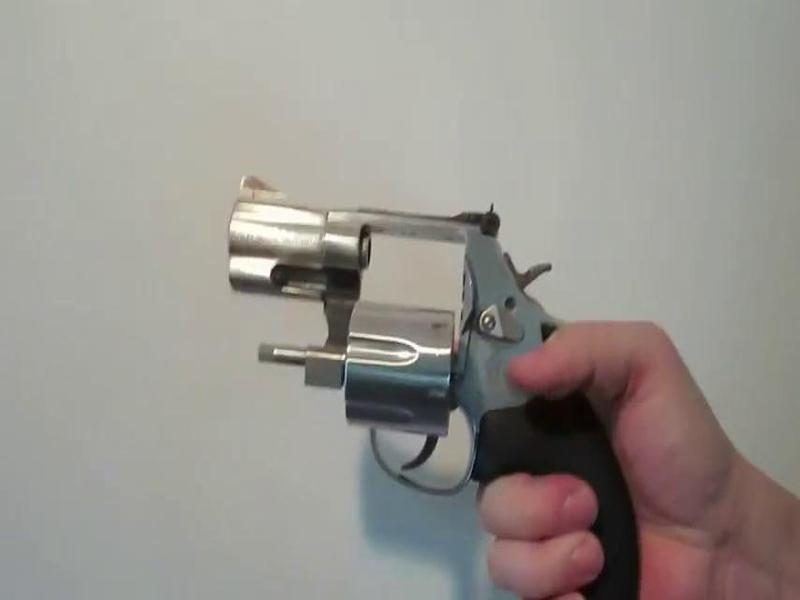Revolver: (216, 160, 651, 600)
